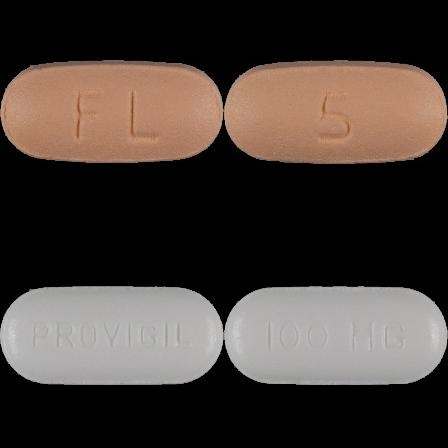21695-232: (0, 0, 224, 224)
